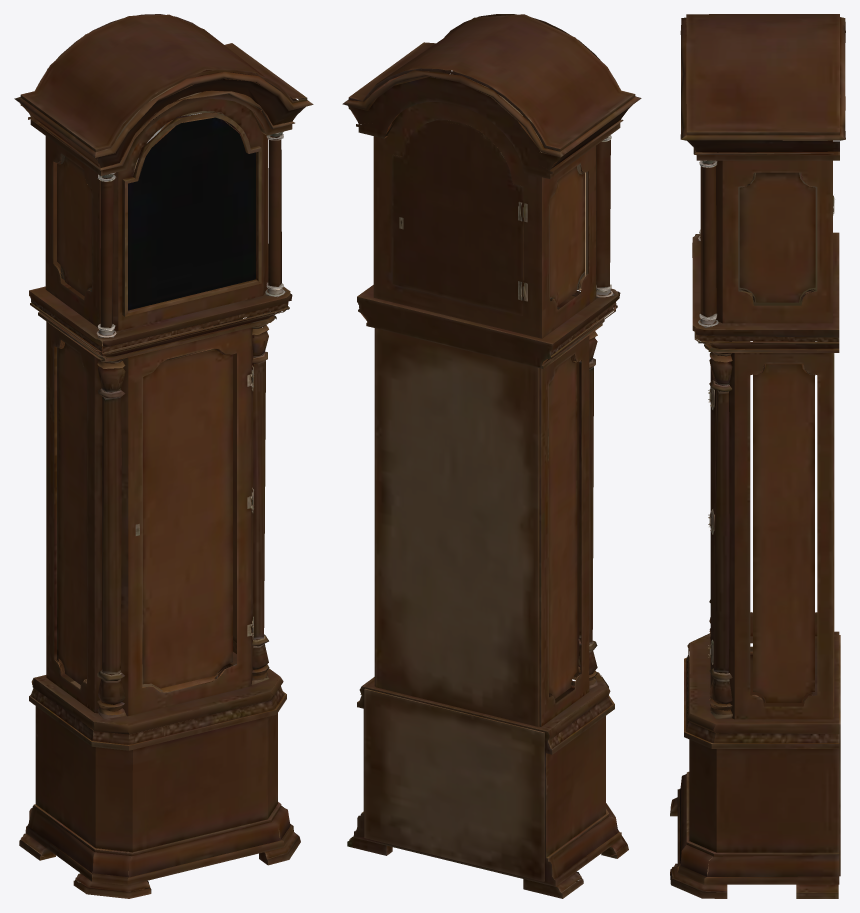
Rendered from ph_vintage_grandfather_clock_01.glb.
3 views of the same model, side by side, from view 1: azimuth 30°, elevation 25°; view 2: azimuth 150°, elevation 25°; view 3: azimuth 270°, elevation 25° (orthographic). The views are drawn at different scales.
Parts seen in each view (by area): view 1: vintage_grandfather_clock_01_body; view 2: vintage_grandfather_clock_01_body; view 3: vintage_grandfather_clock_01_body.
Part boxes in pixels (x1,y1,x2,y2): vintage_grandfather_clock_01_body: (14, 14, 313, 898); vintage_grandfather_clock_01_body: (342, 14, 641, 898); vintage_grandfather_clock_01_body: (670, 14, 845, 898).
Bounding box in the file's own units: 0.6257 × 2.19 × 0.4267.
2 materials, 2 textured.
